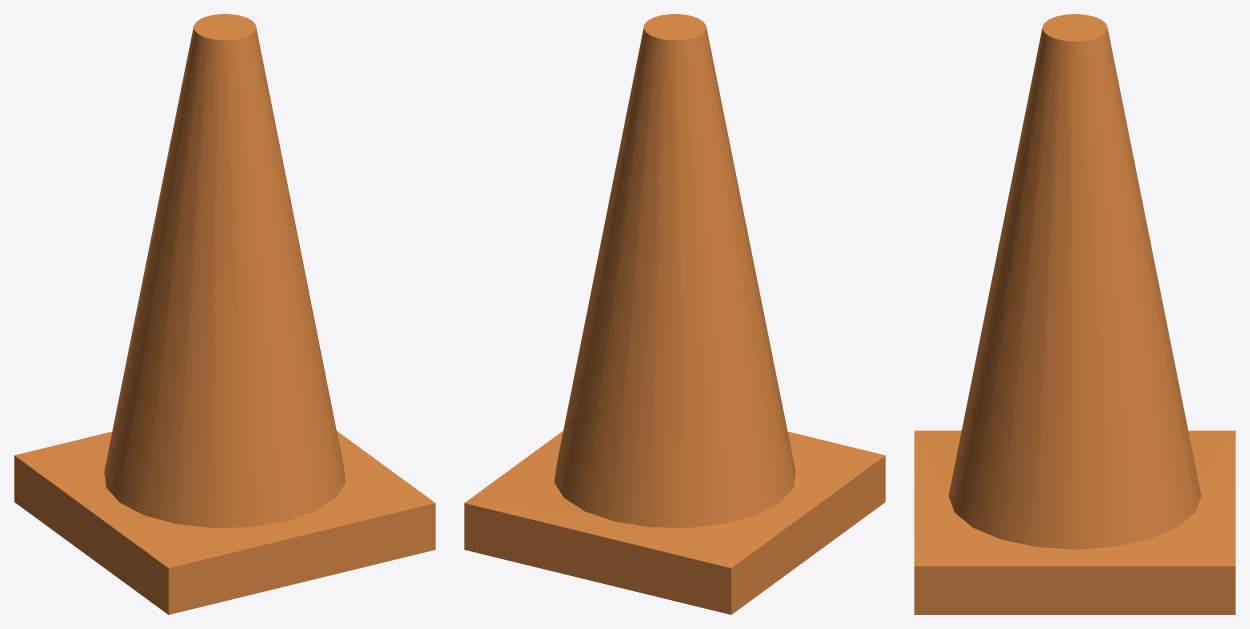
3 renders of one model, left to right at view 1: azimuth 30°, elevation 25°; view 2: azimuth 150°, elevation 25°; view 3: azimuth 270°, elevation 25°, orthographic. The views are drawn at different scales.
Visible parts, largest first — view 1: cone; view 2: cone; view 3: cone.
Boxes of the visible parts, left/top/right/bottom form: cone: left=14, top=14, right=435, bottom=614; cone: left=464, top=14, right=885, bottom=614; cone: left=914, top=14, right=1235, bottom=614.
Size of the model in its own units: 1.31 by 2.34 by 1.31.
